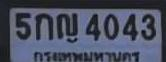0: (103, 13, 118, 39)
3: (140, 13, 155, 39)
4: (85, 13, 99, 40), (122, 13, 136, 40)
5: (15, 12, 30, 39)
A01: (34, 12, 51, 39)
A13: (56, 11, 77, 38)
BKK: (31, 48, 143, 62)
